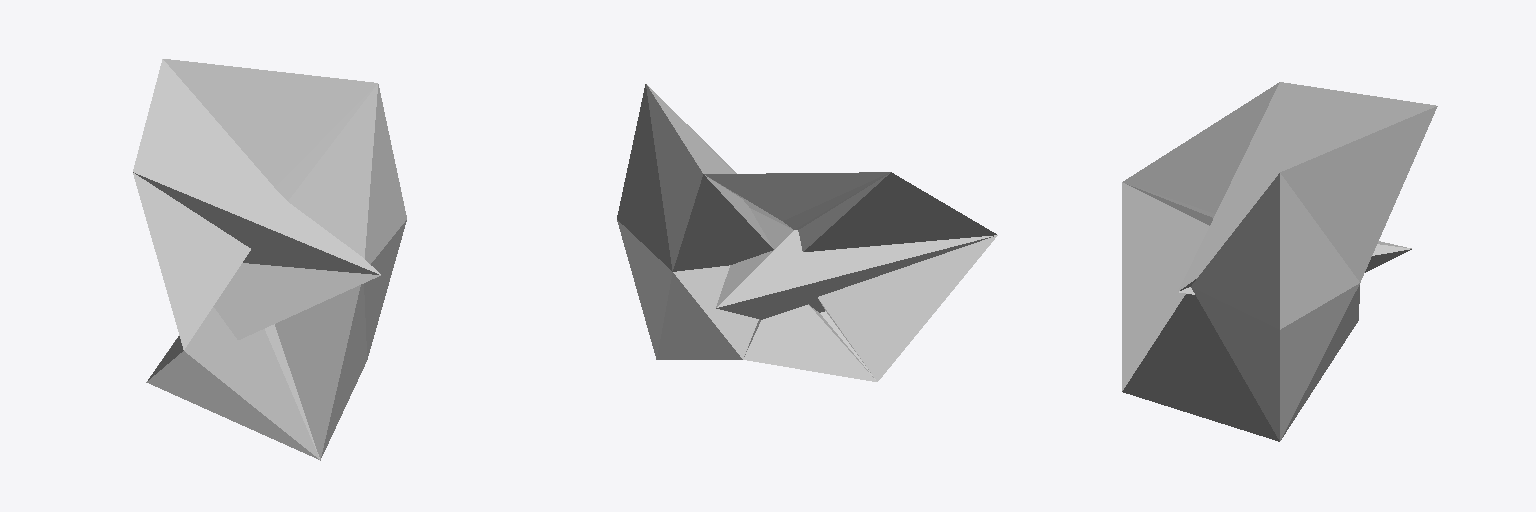
File: jagged2.obj
3 views of the same model, side by side, from view 1: azimuth 30°, elevation 25°; view 2: azimuth 150°, elevation 25°; view 3: azimuth 270°, elevation 25° (orthographic).
Visible parts, largest first — view 1: Platonic; view 2: Platonic; view 3: Platonic.
Part boxes in pixels (bbox=[...]): Platonic: bbox=[133, 59, 406, 460]; Platonic: bbox=[617, 84, 997, 381]; Platonic: bbox=[1122, 82, 1437, 441].
Size of the model in its own units: 29.38 by 26.58 by 26.58.